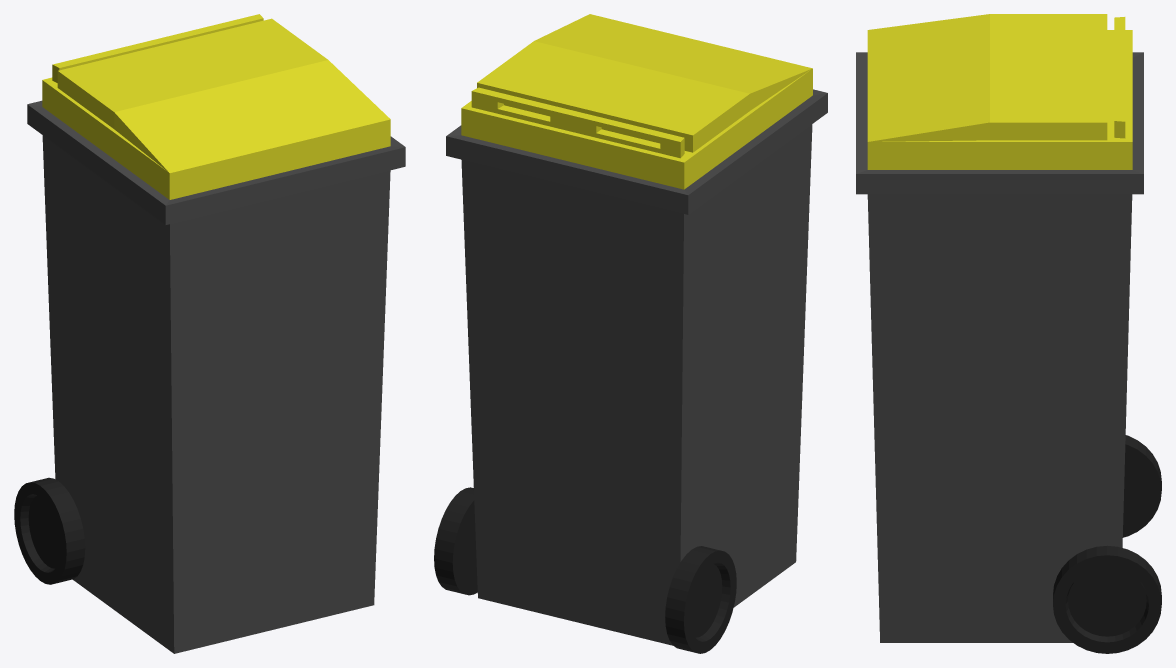
The model's file is poubelle 1.fbx.
3 views of the same model, side by side, from view 1: azimuth 30°, elevation 25°; view 2: azimuth 150°, elevation 25°; view 3: azimuth 270°, elevation 25° (orthographic). The views are drawn at different scales.
Parts seen in each view (by area): view 1: Cube.015; view 2: Cube.015; view 3: Cube.015.
Boxes of the visible parts, left/top/right/bottom form: Cube.015: left=14, top=14, right=405, bottom=653; Cube.015: left=434, top=14, right=827, bottom=653; Cube.015: left=856, top=14, right=1161, bottom=653.
Size of the model in its own units: 69.13 by 135 by 71.16.
